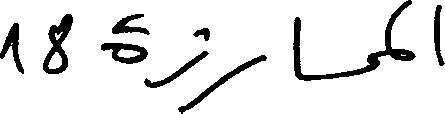X: (207, 23, 265, 100), (101, 9, 146, 90), (167, 23, 205, 113), (43, 9, 72, 78), (385, 0, 414, 65), (0, 18, 24, 78), (433, 0, 444, 70), (365, 46, 379, 77), (295, 12, 301, 84)
